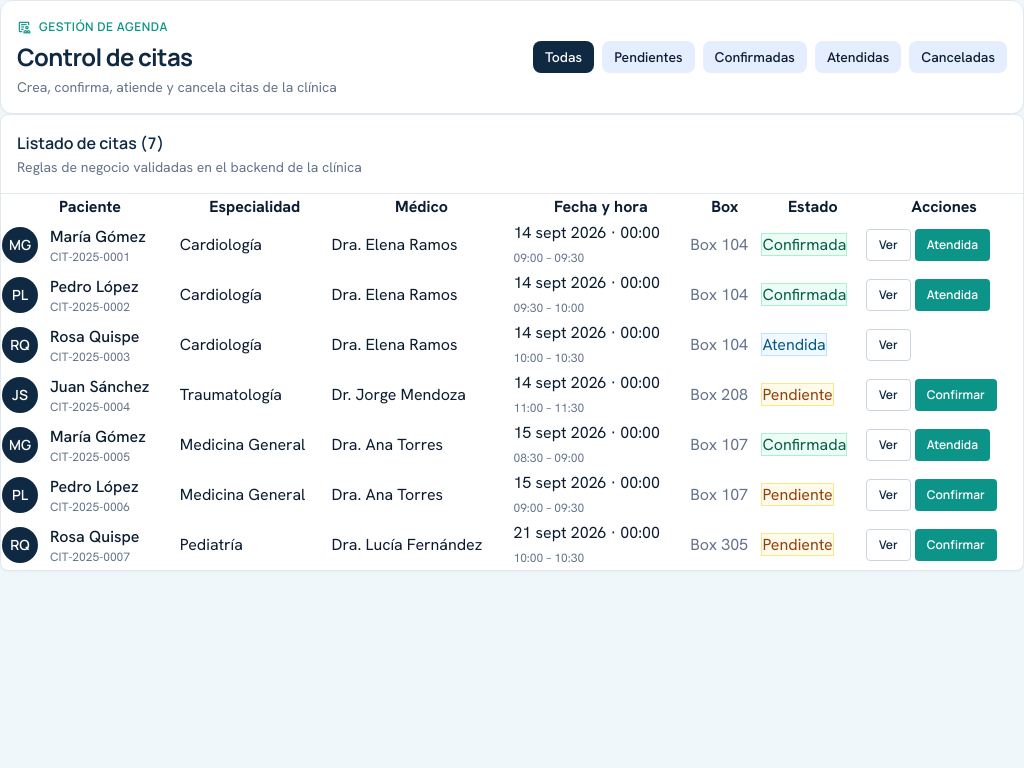
Test case: AdminAppointmentsPage — acciones de citas › confirma una cita futura y luego la cancela
This screenshot has width=1024, height=768.
Expected: the text "CIT-2025-0007" is shown, [50,549,130,565]
Click the button "Confirmar" in the row of "CIT-2025-0007": (956, 545) [915,529,997,561]
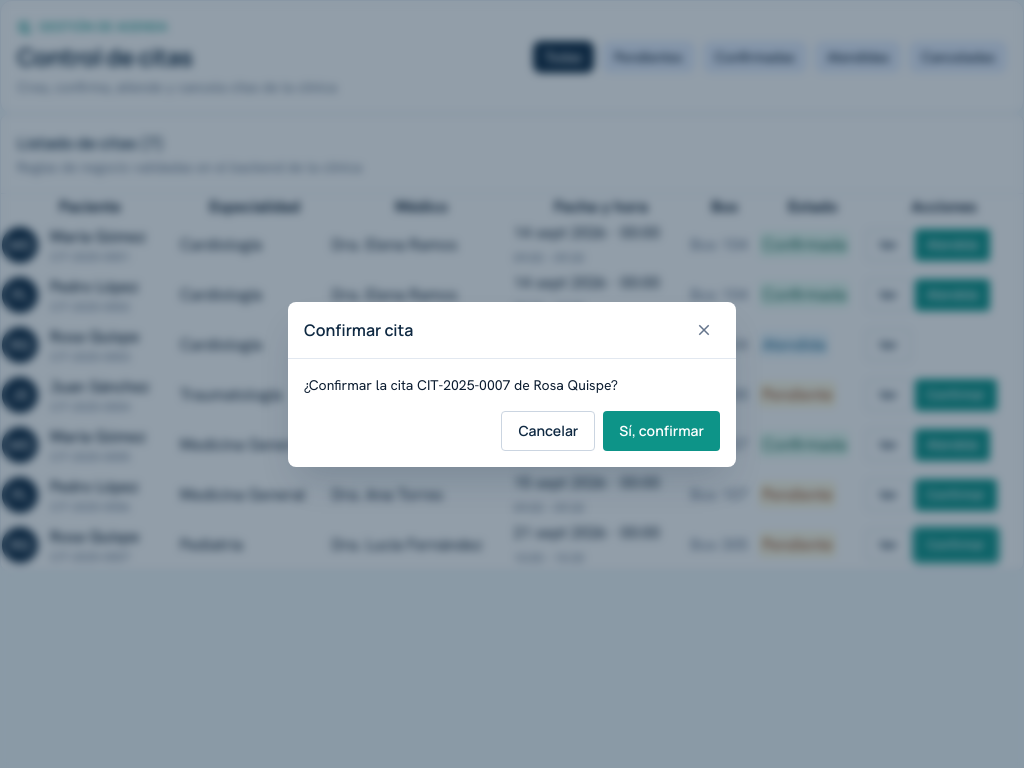
Expected: the text "¿Confirmar la cita CIT-2025-0007 de Rosa Quispe?" is shown, [304,376,618,394]
Click the button "Sí, confirmar": (662, 430) [603,410,720,450]
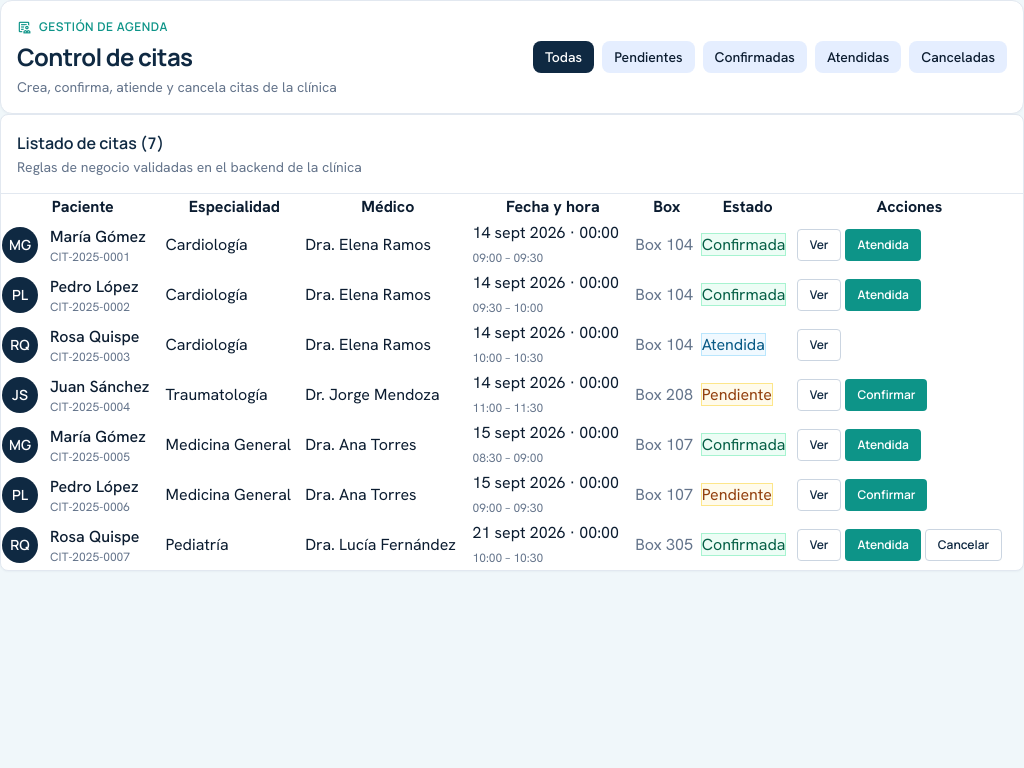
Expected: the button "Cancelar" is shown
Click the button "Cancelar": (964, 545) [925,529,1002,561]
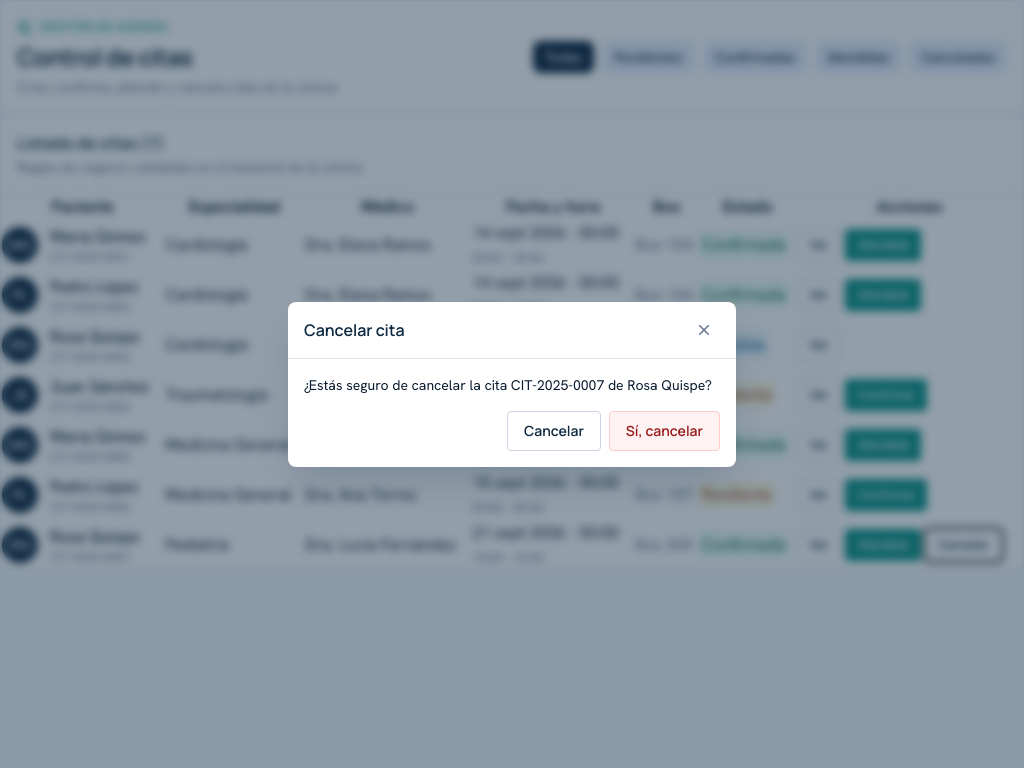
Expected: the text "¿Estás seguro de cancelar la cita CIT-2025-0007" is shown, [304,376,712,394]
Click the button "Sí, cancelar": (664, 430) [609,410,720,450]
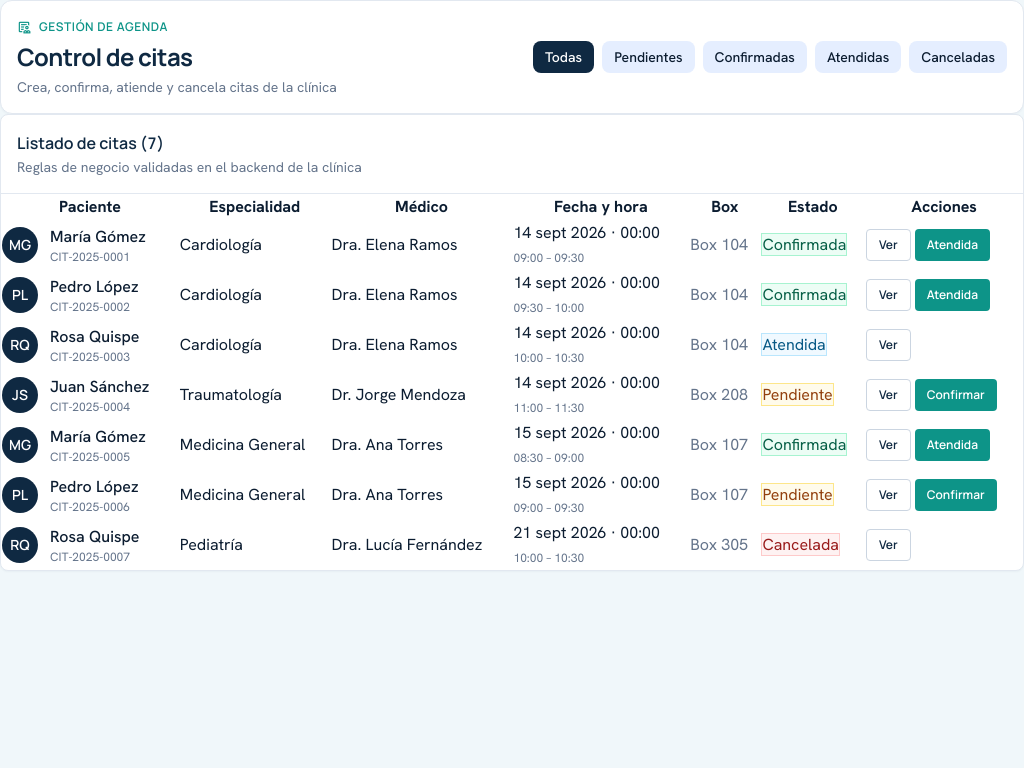
Expected: the button "Cancelar" is gone
